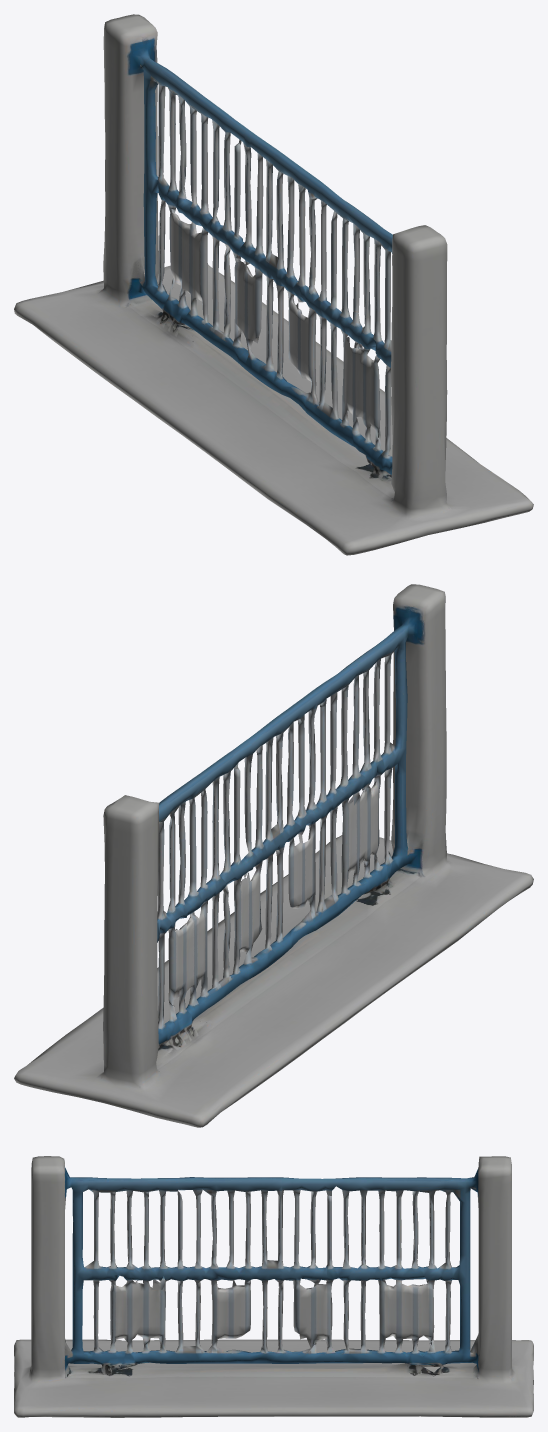
The model's file is gjerde.fbx.
3 renders of one model, top to bottom at view 1: azimuth 30°, elevation 25°; view 2: azimuth 150°, elevation 25°; view 3: azimuth 270°, elevation 25°, orthographic. The views are drawn at different scales.
Visible parts, largest first — view 1: gjerde; view 2: gjerde; view 3: gjerde.
Boxes of the visible parts, box(x1,y1,x2,y2) form: gjerde: box(14, 14, 533, 555); gjerde: box(14, 584, 533, 1127); gjerde: box(14, 1156, 533, 1417).
Size of the model in its own units: 2.01 by 2.87 by 6.13.
1 material, 1 textured.
